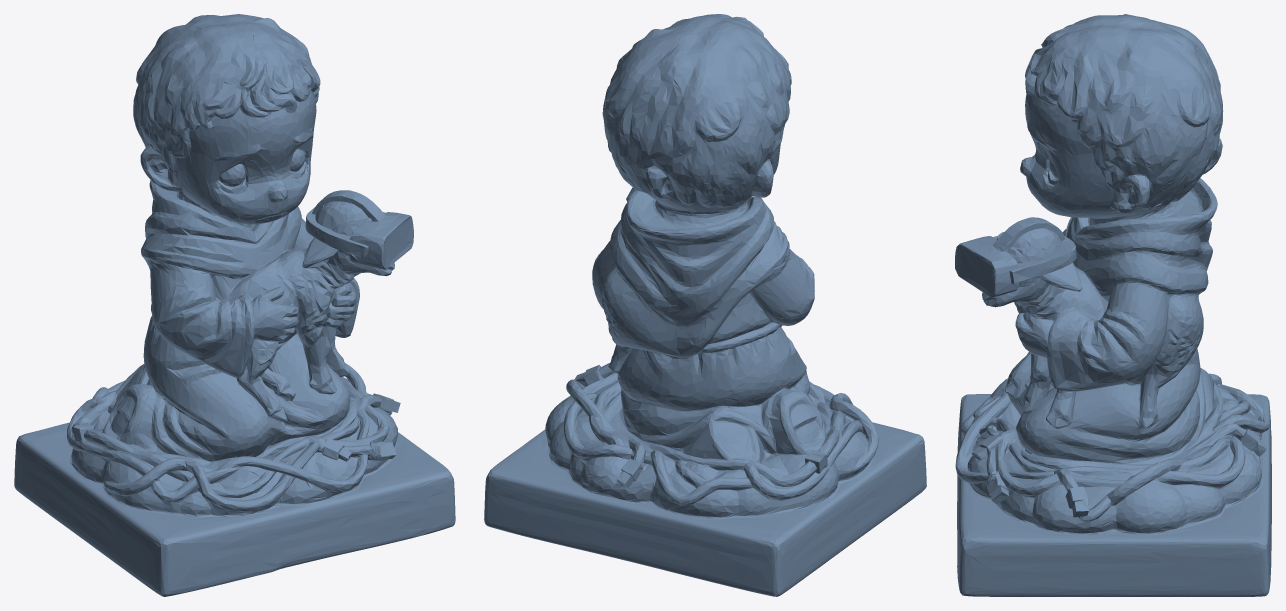
The model's file is zuck.glb.
3 renders of one model, left to right at view 1: azimuth 30°, elevation 25°; view 2: azimuth 150°, elevation 25°; view 3: azimuth 270°, elevation 25°, orthographic. The views are drawn at different scales.
Visible parts, largest first — view 1: world; view 2: world; view 3: world.
Part boxes in pixels (<box>): world: <box>14,14,455,596</box>; world: <box>484,14,926,596</box>; world: <box>955,14,1271,596</box>.
Bounding box in the file's own units: 0.6474 × 1 × 0.5778.
